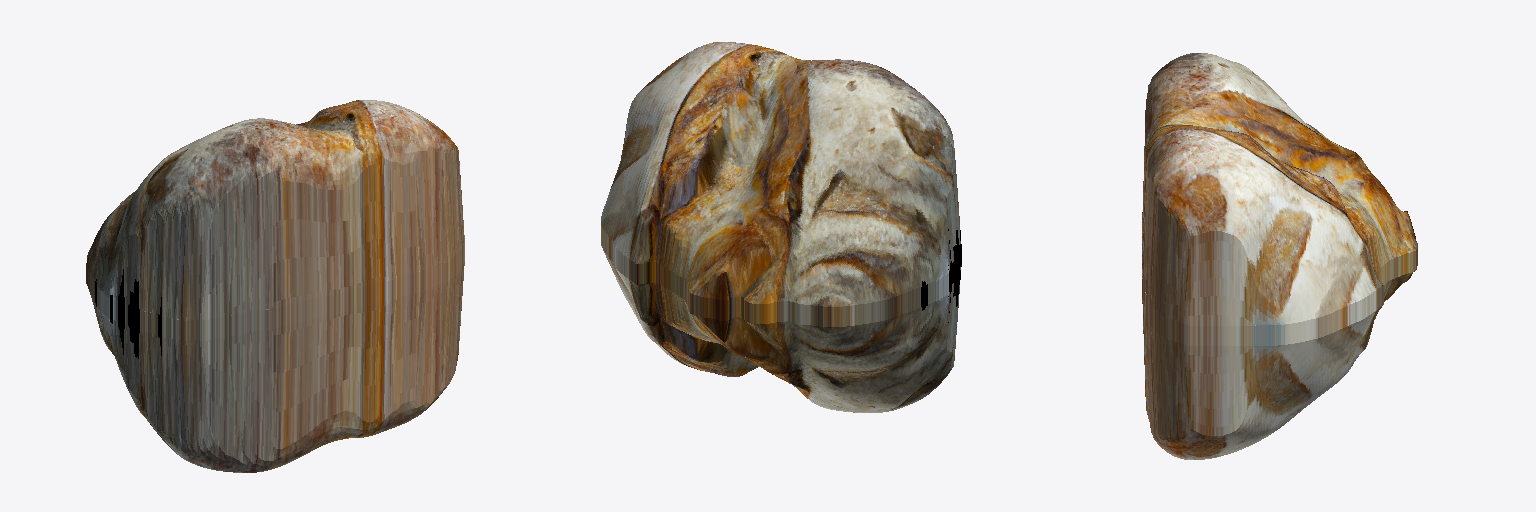
The picture shows the model from 3 angles: view 1: azimuth 30°, elevation 25°; view 2: azimuth 150°, elevation 25°; view 3: azimuth 270°, elevation 25°; orthographic projection.
Visible parts, largest first — view 1: Grid; view 2: Grid; view 3: Grid.
Boxes of the visible parts, x1,y1,x2,y2 form: Grid: [86, 100, 464, 472]; Grid: [601, 42, 961, 412]; Grid: [1142, 53, 1417, 459].
Size of the model in its own units: 2.02 by 1.99 by 1.47.
Materials: 1 (1 with a texture image).